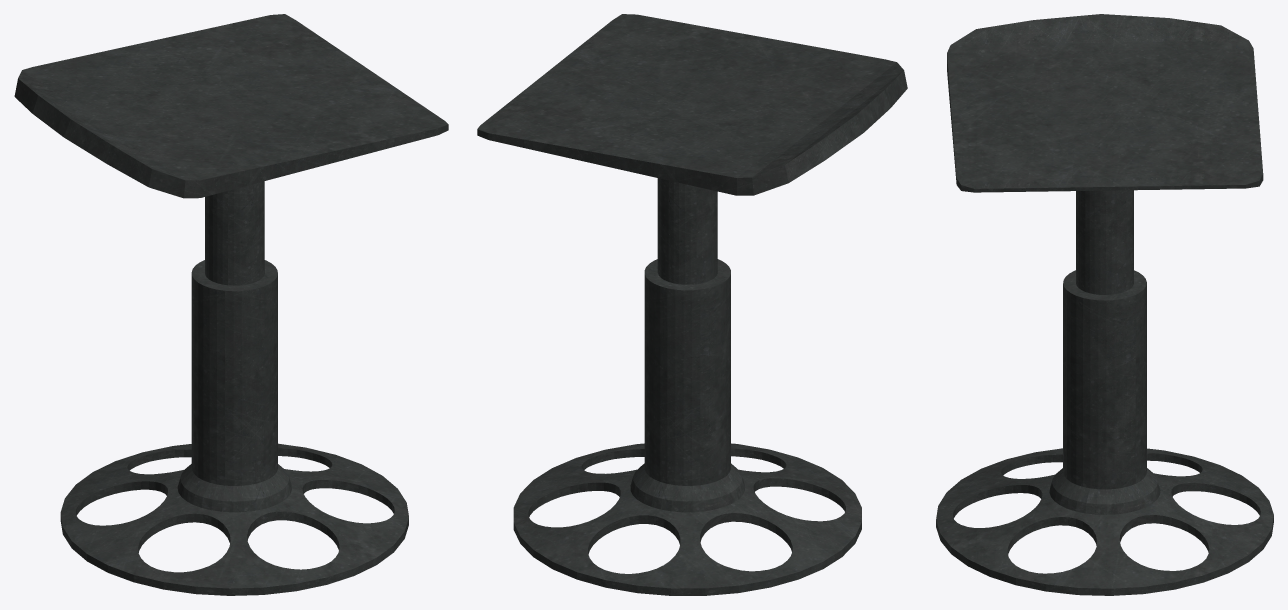
The model's file is MonitorStool.fbx.
The picture shows the model from 3 angles, left to right: view 1: azimuth 30°, elevation 25°; view 2: azimuth 150°, elevation 25°; view 3: azimuth 270°, elevation 25°; orthographic projection. The views are drawn at different scales.
Parts seen in each view (by area): view 1: Cube.006; view 2: Cube.006; view 3: Cube.006.
Boxes of the visible parts, left/top/right/bottom form: Cube.006: left=14, top=14, right=448, bottom=595; Cube.006: left=477, top=14, right=907, bottom=595; Cube.006: left=936, top=14, right=1273, bottom=595.
Bounding box in the file's own units: 184 × 241 × 171.
